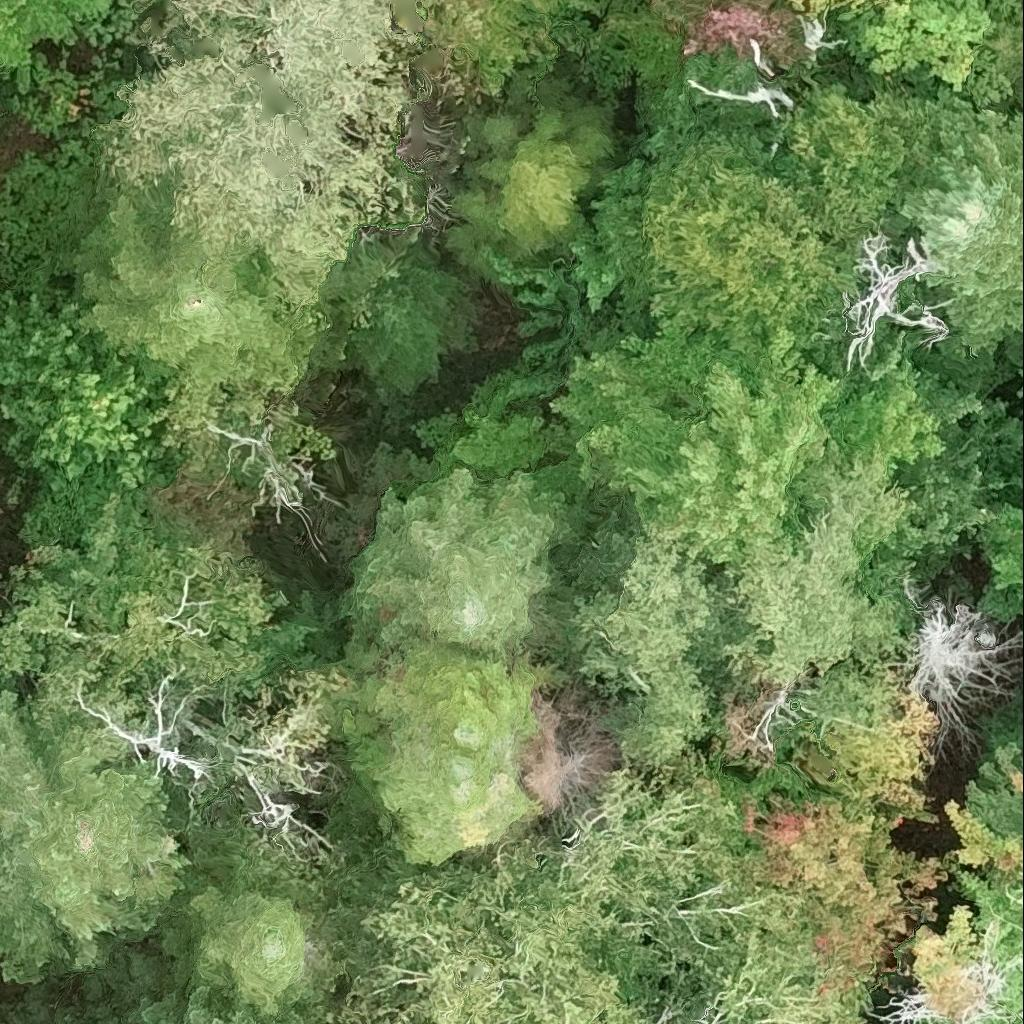crown: (338, 750, 878, 1023), (568, 446, 921, 766), (91, 0, 426, 299), (550, 323, 947, 564), (573, 82, 922, 346), (71, 172, 330, 392), (0, 685, 186, 980), (71, 661, 327, 848), (738, 762, 947, 984), (13, 435, 203, 638), (440, 75, 624, 279), (153, 815, 328, 1015), (0, 287, 172, 490), (895, 801, 1023, 1023), (311, 232, 463, 391), (561, 0, 808, 93), (833, 0, 1023, 108), (395, 0, 590, 96), (908, 595, 1023, 736), (835, 230, 951, 368), (815, 702, 934, 820), (0, 0, 122, 94), (84, 981, 313, 1023), (974, 505, 1023, 625), (967, 742, 1023, 837), (792, 0, 880, 20), (1014, 362, 1023, 398), (1009, 772, 1023, 793)
